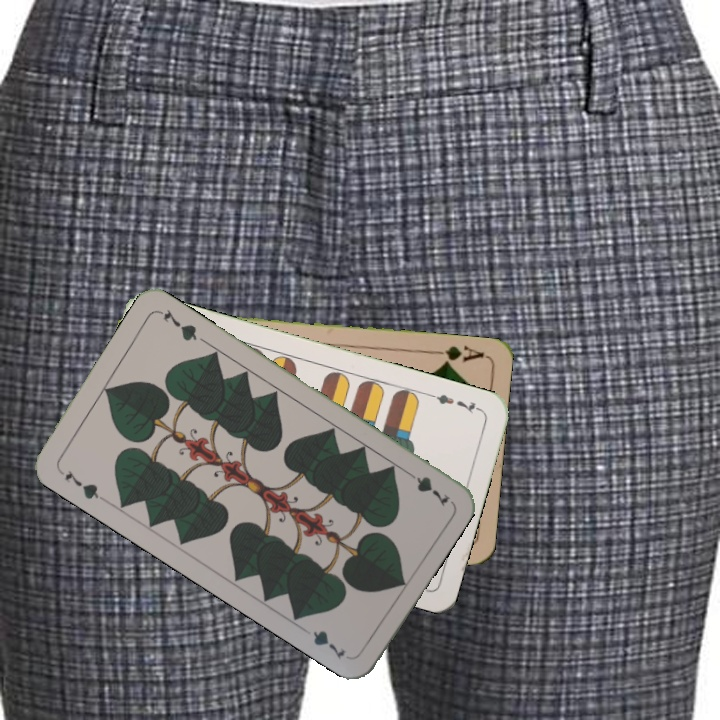E7: (426, 390, 484, 417)
G7: (400, 465, 453, 509), (55, 465, 107, 504)
GA: (428, 342, 487, 368)
